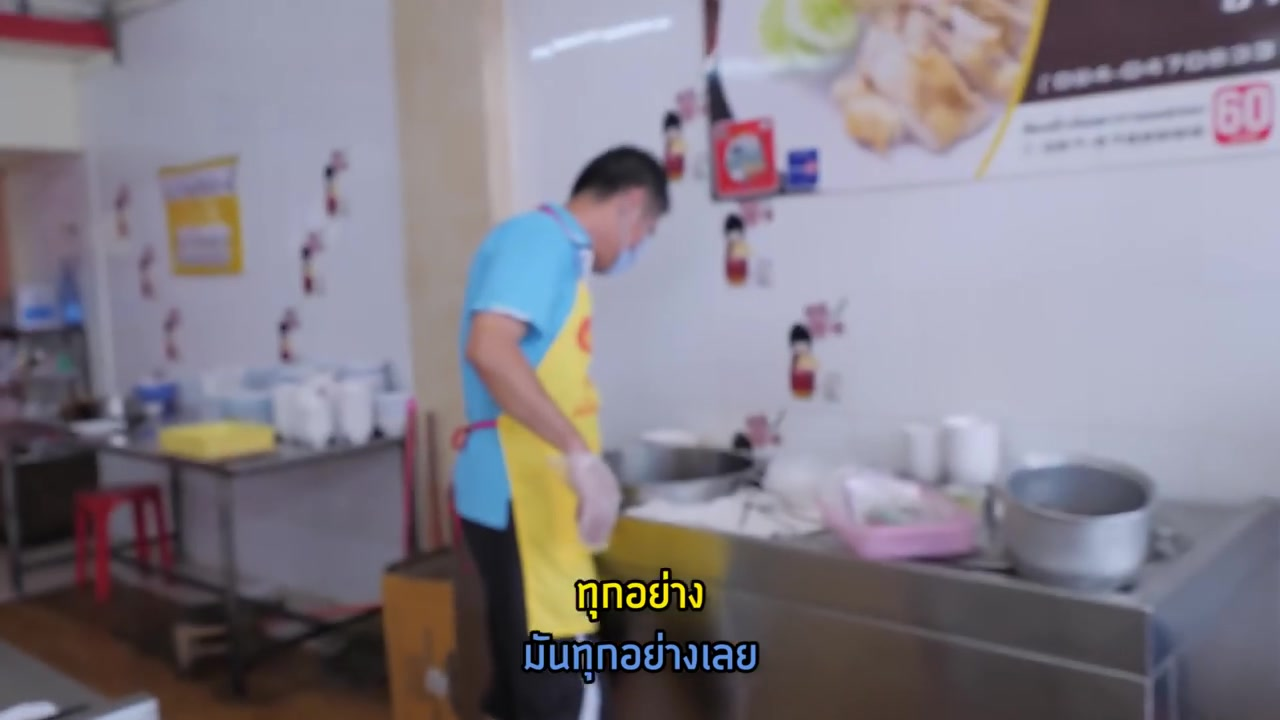text-label: (517, 622, 759, 685), (568, 565, 710, 622)
